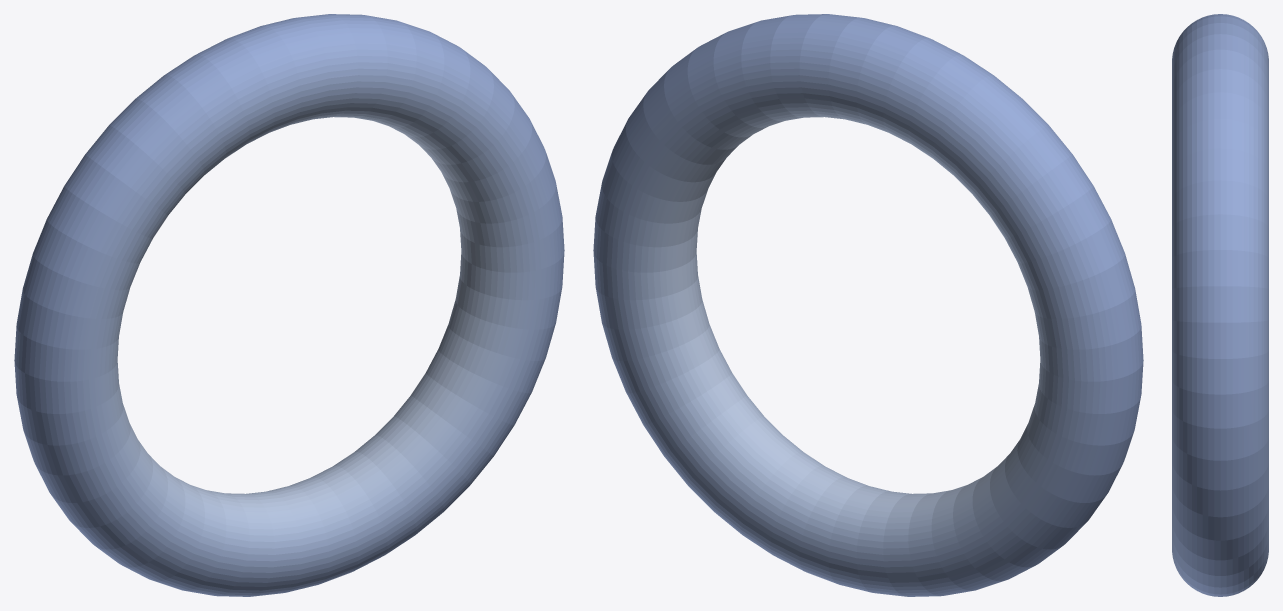
3 views of the same model, side by side, from view 1: azimuth 30°, elevation 25°; view 2: azimuth 150°, elevation 25°; view 3: azimuth 270°, elevation 25° (orthographic). The views are drawn at different scales.
Parts seen in each view (by area): view 1: world; view 2: world; view 3: world.
Part boxes in pixels (x1,y1,x2,y2): world: (14, 14, 564, 596); world: (593, 14, 1143, 596); world: (1172, 14, 1268, 596).
Bounding box in the file's own units: 24.8 × 24.75 × 4.13.
